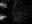person: (1, 13, 6, 21), (1, 1, 6, 5), (14, 1, 18, 5)
